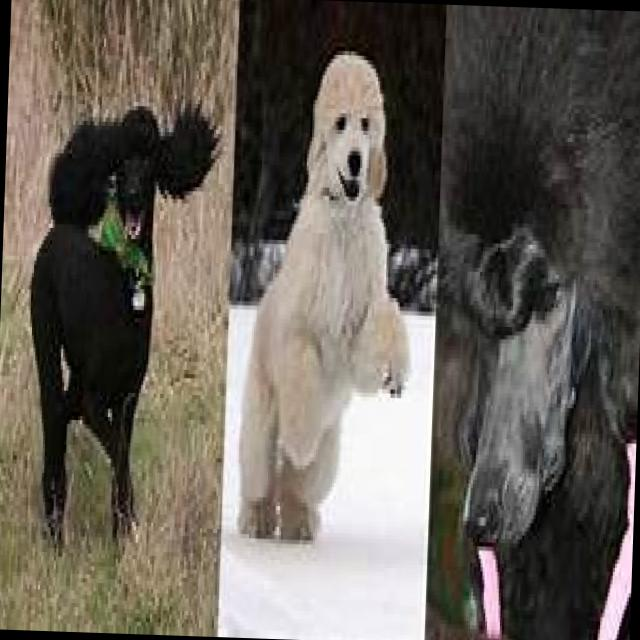dog: (424, 4, 640, 640), (236, 56, 418, 544), (20, 103, 214, 547)
